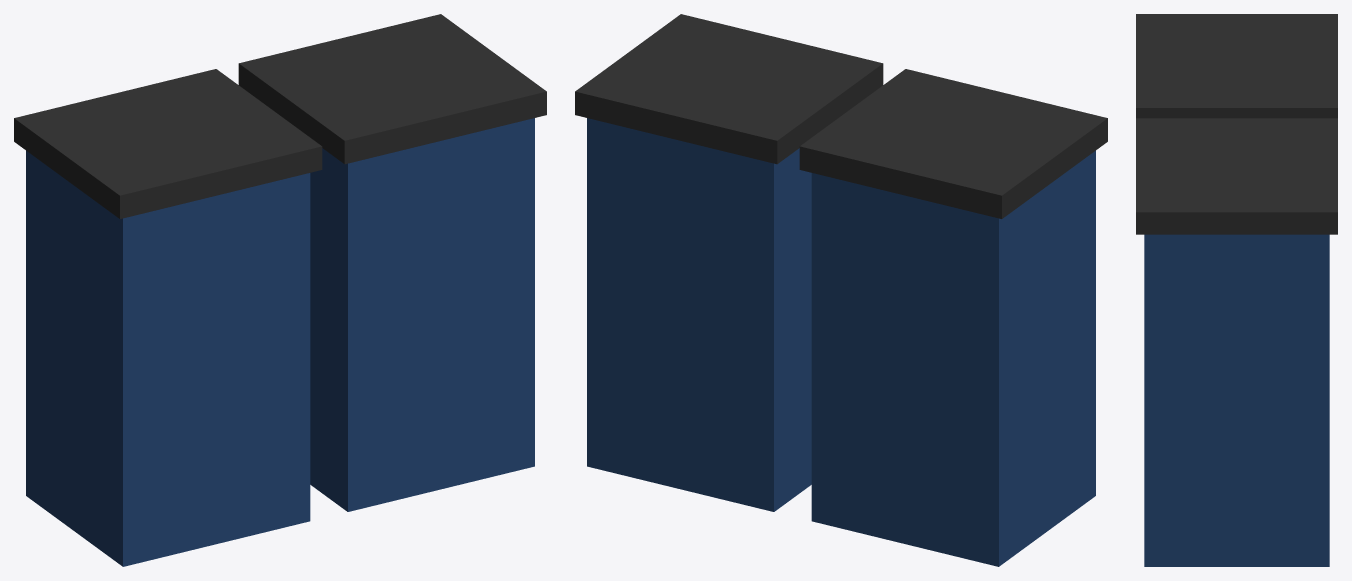
Rendered from prop_bin.glb.
3 views of the same model, side by side, from view 1: azimuth 30°, elevation 25°; view 2: azimuth 150°, elevation 25°; view 3: azimuth 270°, elevation 25° (orthographic). The views are drawn at different scales.
Visible parts, largest first — view 1: prop_bin.bins, prop_bin.lids; view 2: prop_bin.bins, prop_bin.lids; view 3: prop_bin.bins, prop_bin.lids.
Boxes of the visible parts, bbox=[...] form: prop_bin.bins: bbox=[26, 118, 534, 566]; prop_bin.lids: bbox=[14, 14, 546, 218]; prop_bin.bins: bbox=[587, 118, 1095, 566]; prop_bin.lids: bbox=[575, 14, 1107, 218]; prop_bin.bins: bbox=[1144, 234, 1329, 566]; prop_bin.lids: bbox=[1136, 14, 1337, 234].
Size of the model in its own units: 1.14 by 0.96 by 0.49.
